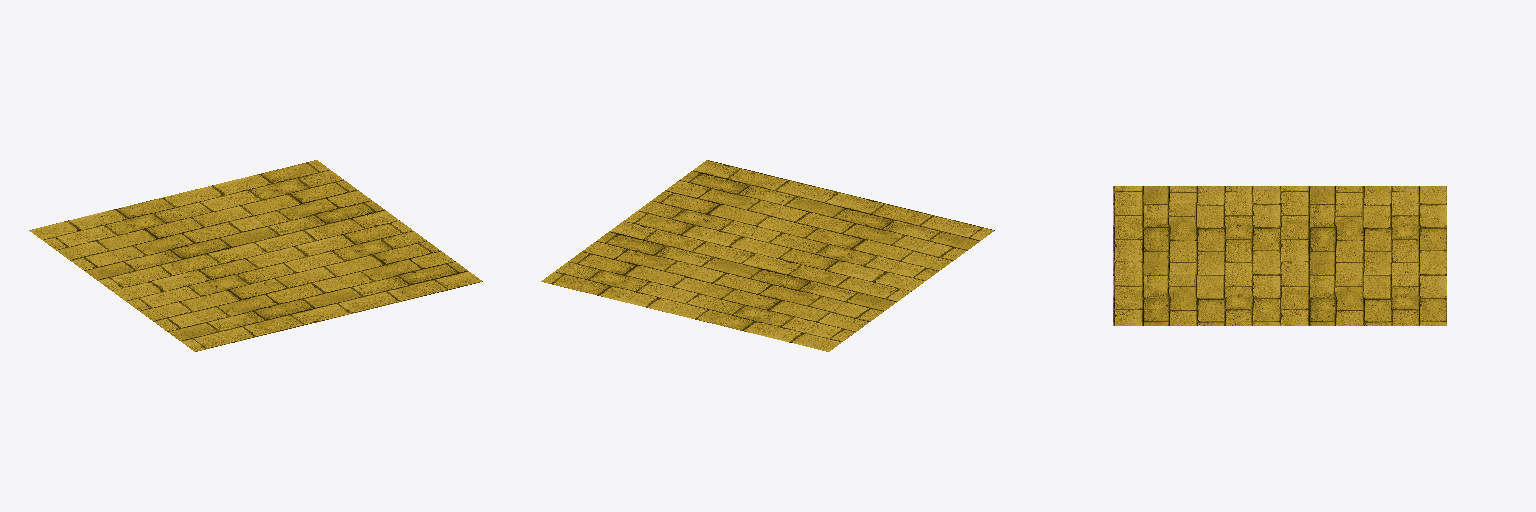
3 views of the same model, side by side, from view 1: azimuth 30°, elevation 25°; view 2: azimuth 150°, elevation 25°; view 3: azimuth 270°, elevation 25° (orthographic).
Parts seen in each view (by area): view 1: brick_ceil_x4; view 2: brick_ceil_x4; view 3: brick_ceil_x4.
Part boxes in pixels (x1,y1,x2,y2): brick_ceil_x4: (29,160,482,351); brick_ceil_x4: (541,160,994,351); brick_ceil_x4: (1113,186,1446,325).
Bounding box in the file's own units: 400 × 0 × 400.
1 materials, 1 textured.